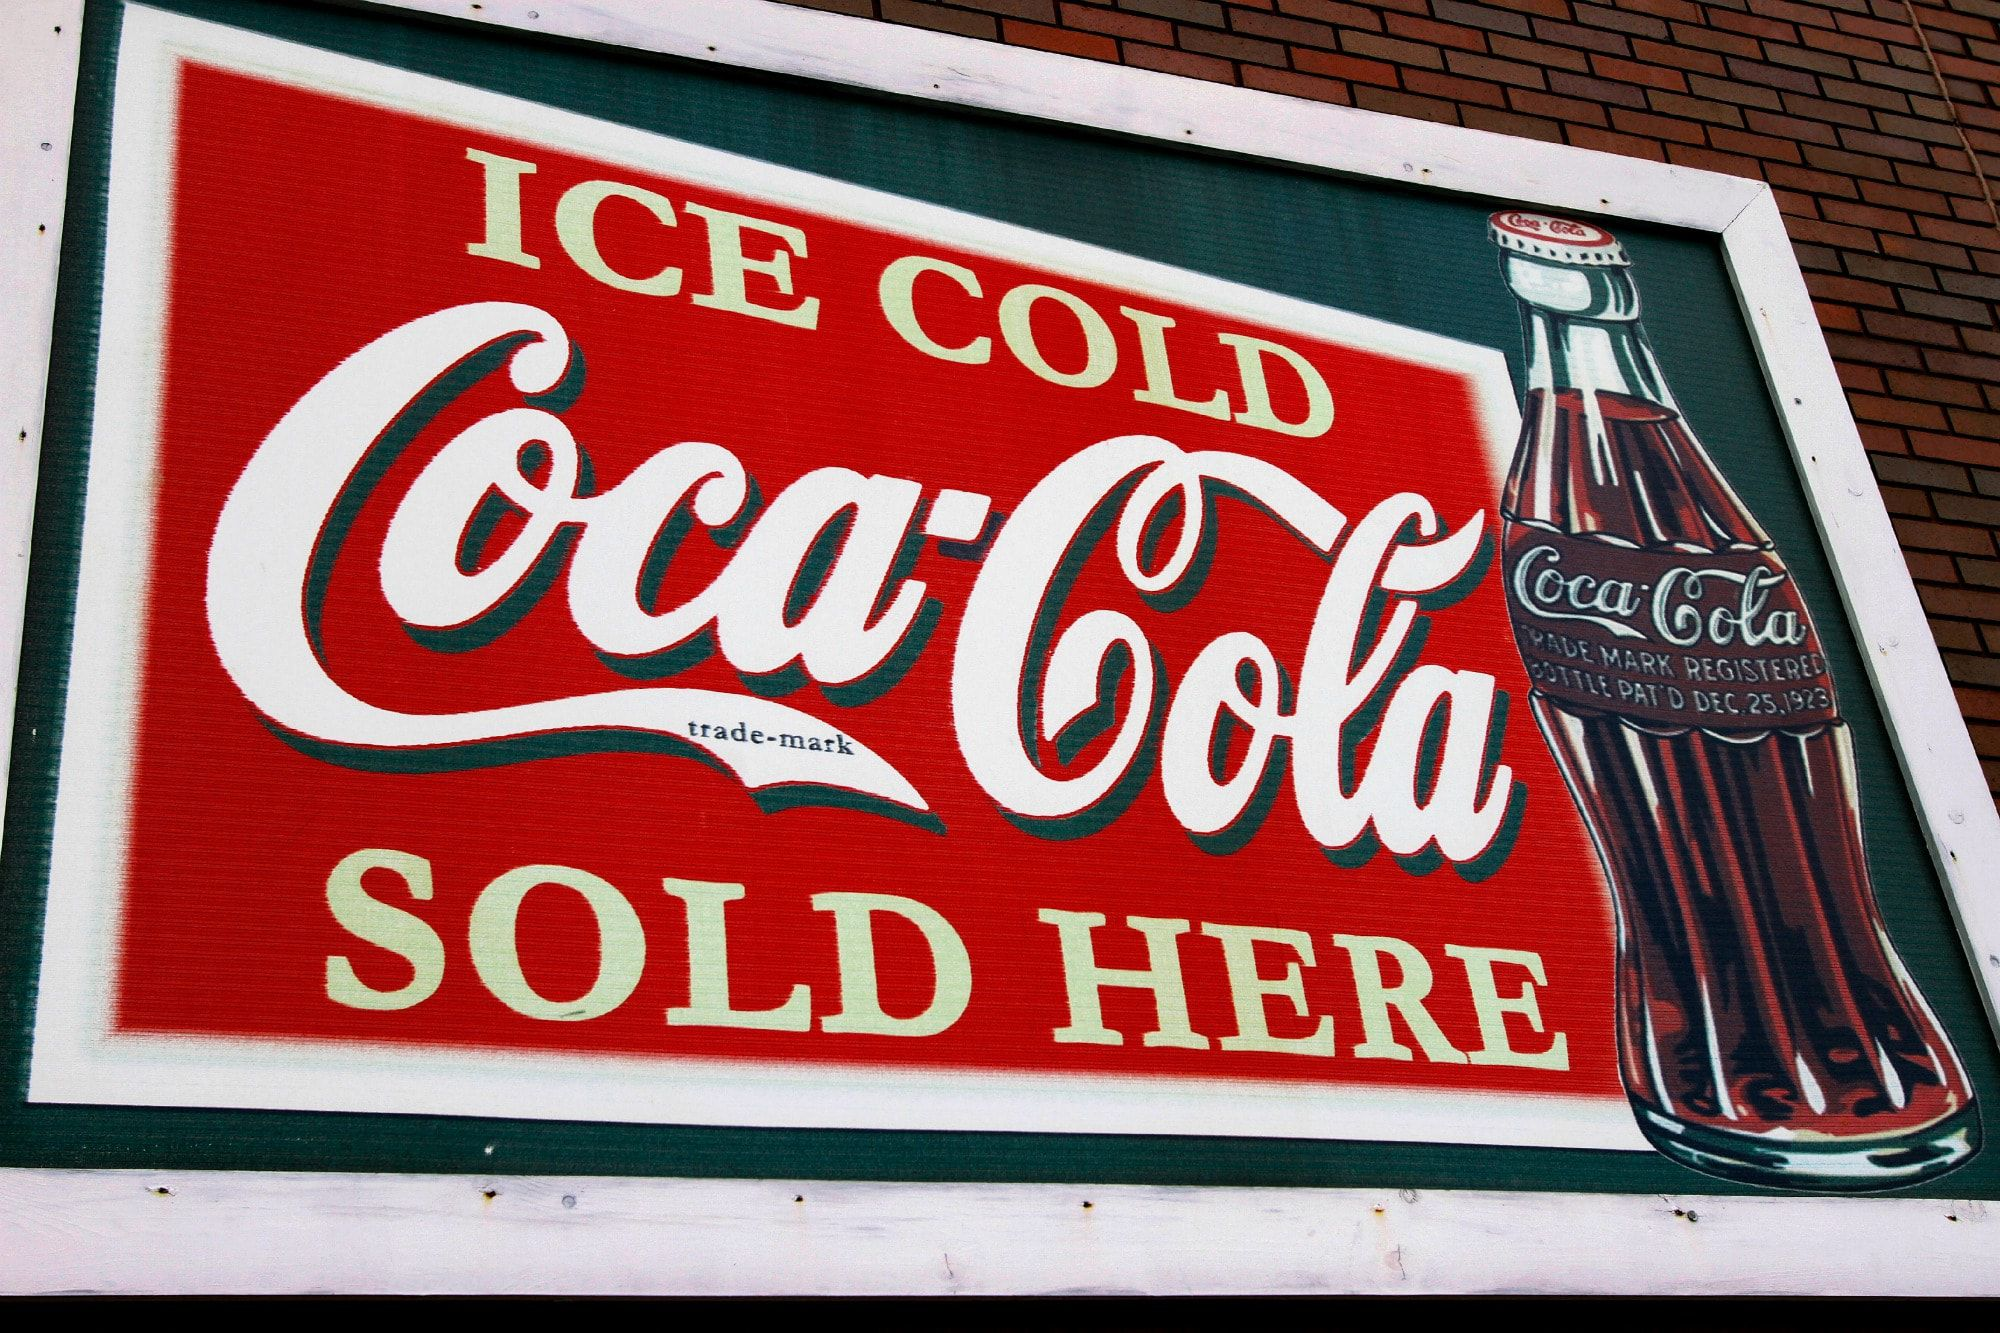Coca-Cola: (1444, 182, 1987, 1195)
